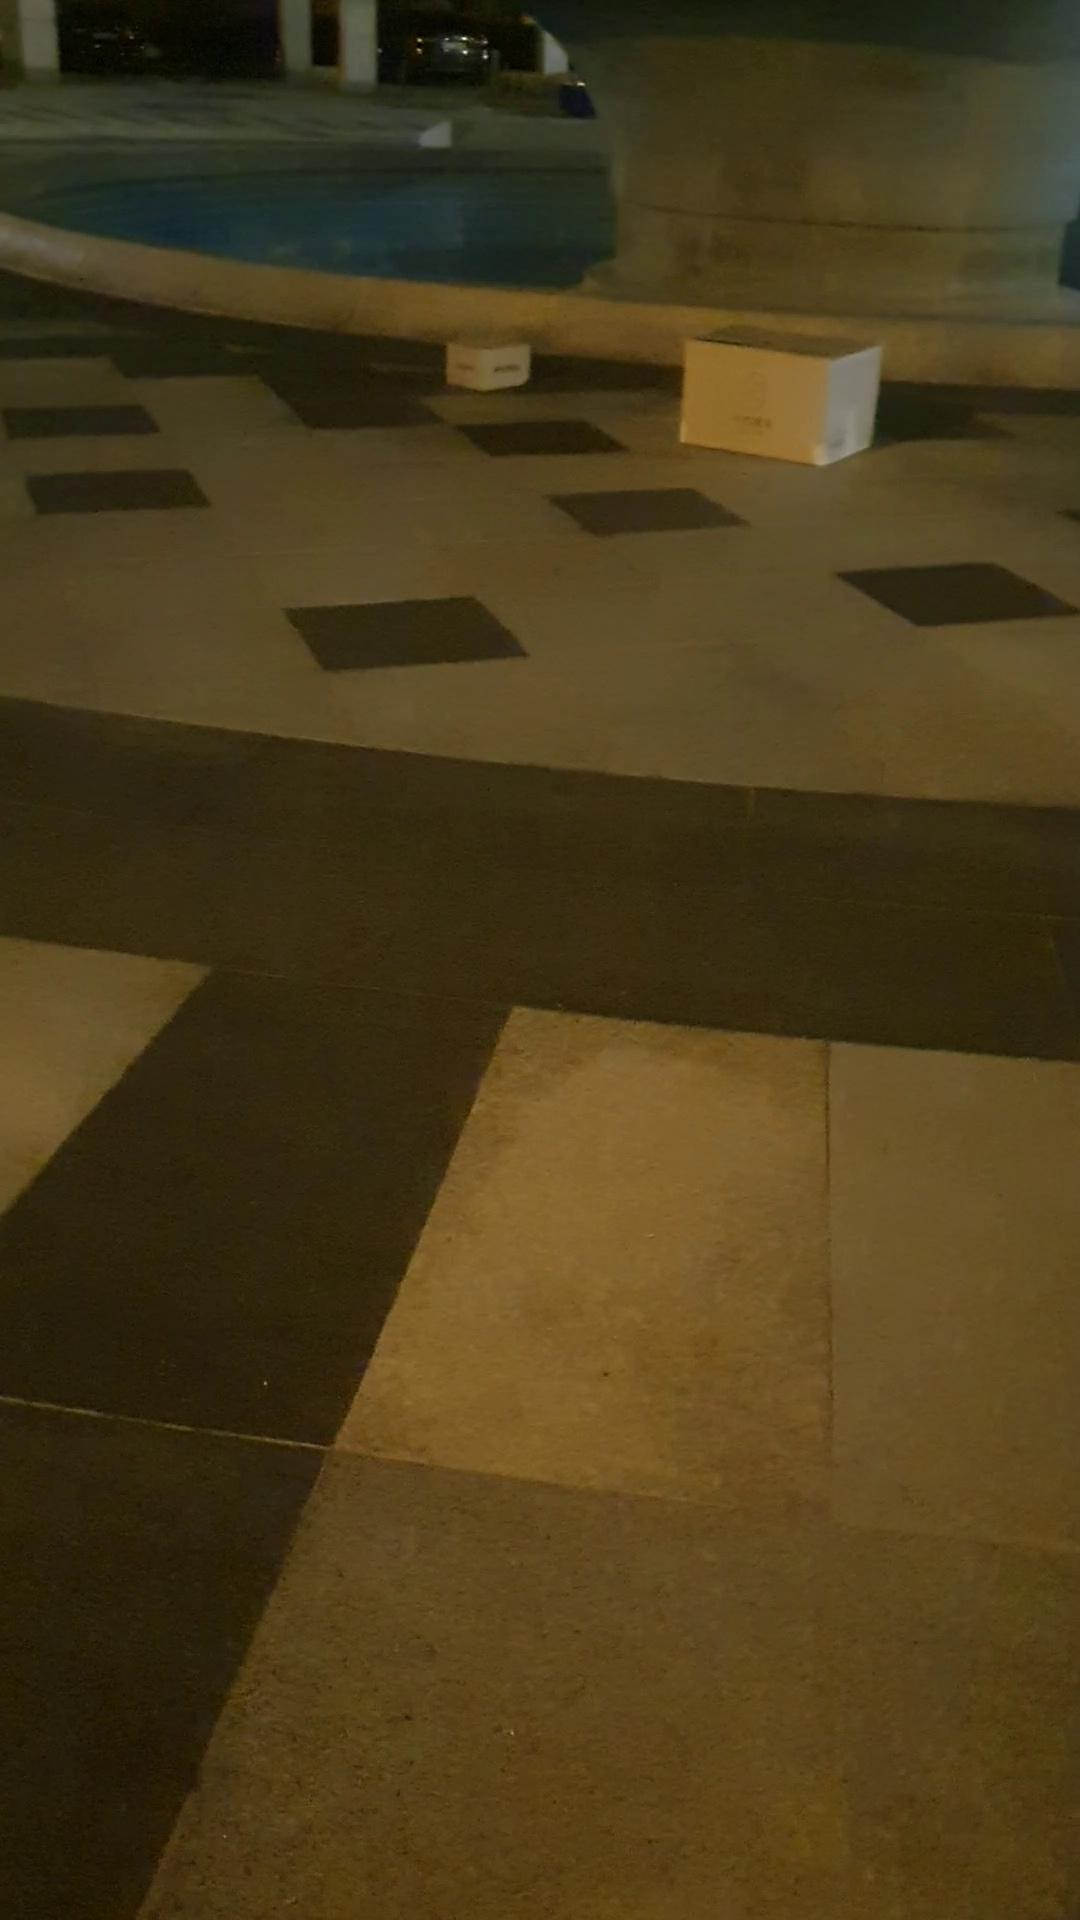Box: (678, 309, 905, 483), (431, 323, 549, 396)
